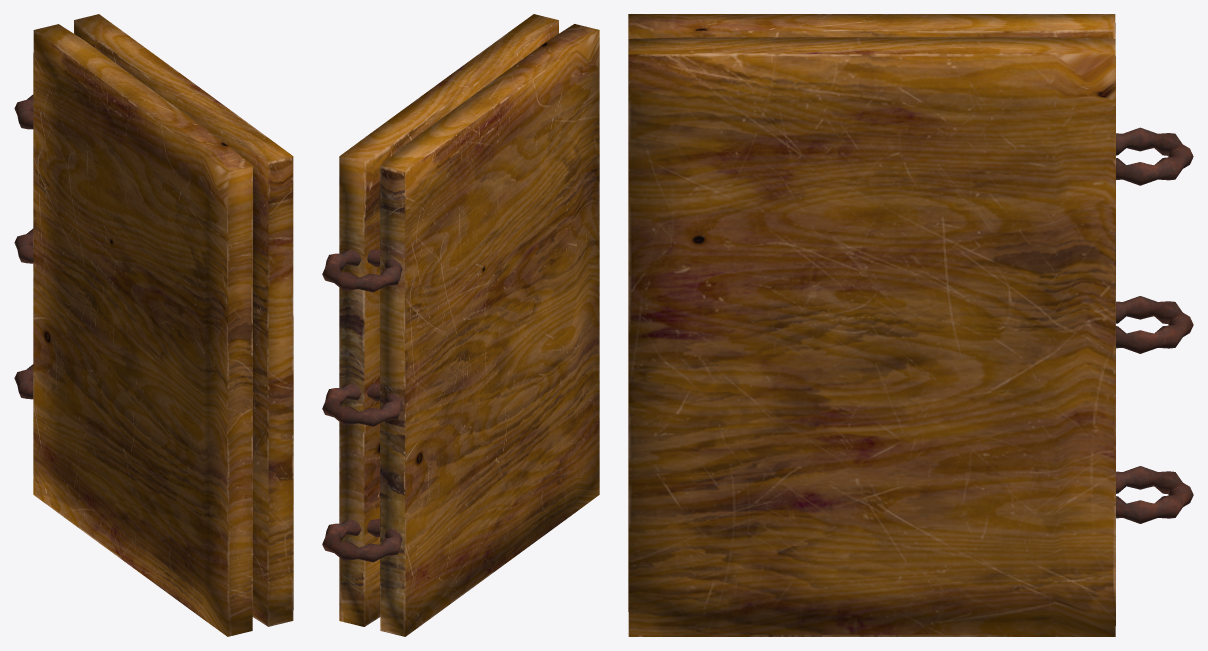
The picture shows the model from 3 angles, left to right: view 1: azimuth 30°, elevation 25°; view 2: azimuth 150°, elevation 25°; view 3: azimuth 270°, elevation 25°; orthographic projection. The views are drawn at different scales.
Visible parts, largest first — view 1: Wax_tablet_r_mesh, Wax_tablet_l_mesh, Wax_tablet_mid_mesh; view 2: Wax_tablet_r_mesh, Wax_tablet_l_mesh, Wax_tablet_mid_mesh; view 3: Wax_tablet_l_mesh, Wax_tablet_r_mesh, Wax_tablet_mid_mesh.
Part boxes in pixels (x1=…): Wax_tablet_r_mesh: x1=33, y1=24, x2=252, y2=636; Wax_tablet_l_mesh: x1=74, y1=14, x2=293, y2=626; Wax_tablet_mid_mesh: x1=14, y1=94, x2=33, y2=399; Wax_tablet_r_mesh: x1=380, y1=24, x2=599, y2=636; Wax_tablet_l_mesh: x1=339, y1=14, x2=558, y2=626; Wax_tablet_mid_mesh: x1=322, y1=248, x2=402, y2=562; Wax_tablet_l_mesh: x1=628, y1=37, x2=1115, y2=636; Wax_tablet_r_mesh: x1=628, y1=14, x2=1115, y2=611; Wax_tablet_mid_mesh: x1=1116, y1=127, x2=1193, y2=523.
Bounding box in the file's own units: 0.1639 × 0.9873 × 0.8685.
Materials: 1 (1 with a texture image).
